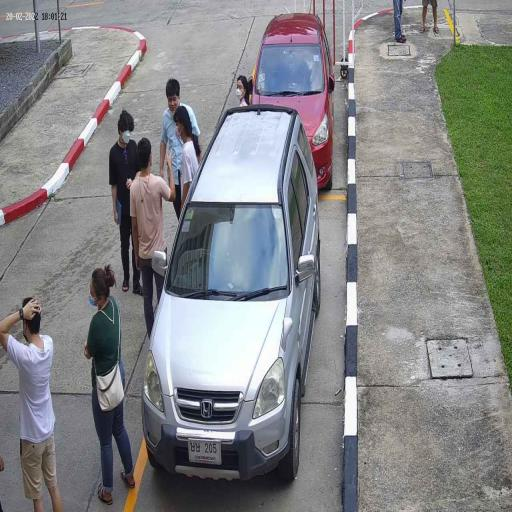car: (141, 105, 322, 484), (250, 12, 334, 188)
